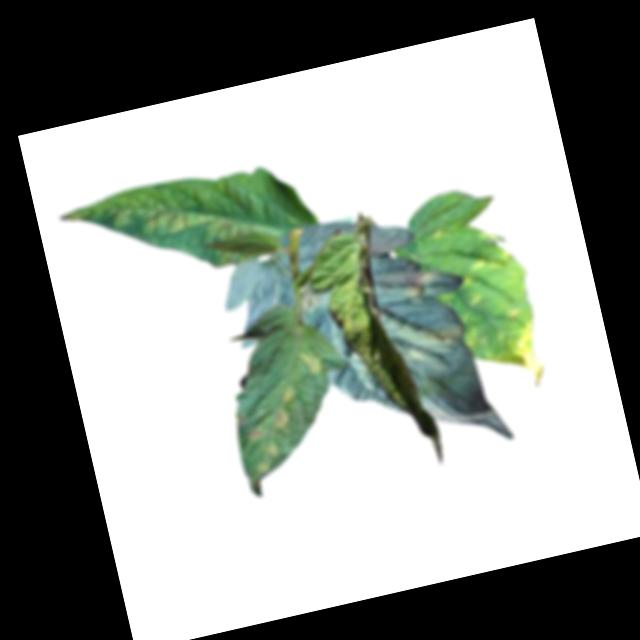Leaf_Mold: (55, 163, 254, 277), (377, 291, 469, 368), (487, 321, 550, 393), (374, 253, 440, 306), (468, 240, 520, 284), (267, 382, 305, 430), (301, 347, 325, 381), (301, 286, 326, 313)
